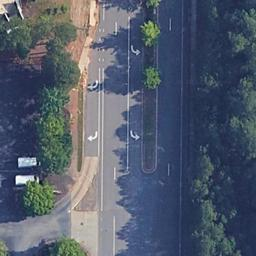Left Turn Arrow: (130, 127, 141, 143), (131, 45, 142, 57)
Right Turn Arrow: (87, 77, 99, 90), (87, 130, 98, 142)
Solid White Line: (127, 16, 130, 170), (101, 67, 104, 211), (111, 215, 115, 256)
White Dashed Line: (97, 26, 106, 65), (113, 19, 120, 47), (113, 165, 120, 185), (167, 15, 173, 37), (167, 152, 171, 179)
